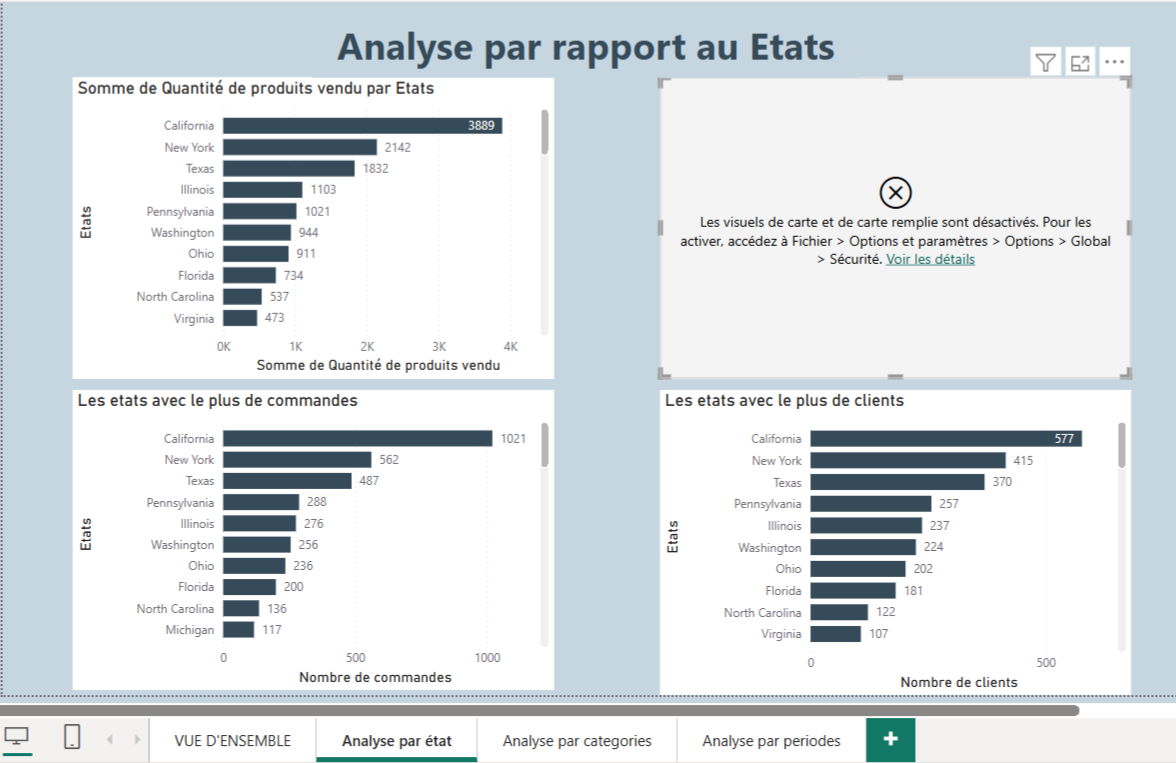

Layout of this report page (visuals, bound fields, positions):
{"tool":"powerbi","page":{"name":"Analyse par  état","canvas":[1280,720],"ordinal":1},"visuals":[{"type":"clusteredBarChart","title":"Les etats avec le plus de clients","fields":{"Category":["SuperStore.Etats"],"Y":["SuperStore.Nombre de clients"]},"box":[657.5,415,471.2,305],"z":0},{"type":"clusteredBarChart","title":"Les etats avec le plus de commandes","fields":{"Category":["SuperStore.Etats"],"Y":["SuperStore.Nombre de commandes"]},"box":[70,415,481.2,300],"z":1000},{"type":"clusteredBarChart","fields":{"Category":["SuperStore.Etats"],"Y":["Sum(SuperStore.Quantité de produits vendu)"]},"box":[70,102.5,481.2,301.2],"z":2000},{"type":"filledMap","title":"Cartographie des commandes par Etat","fields":{"Category":["SuperStore.Pays"],"Series":["SuperStore.Etats"]},"box":[657.5,102.5,471.2,301.2],"z":3000},{"type":"textbox","box":[366.2,0,546.2,63.8],"z":4000}]}

Visuals, with their boxes on the page's 1280x720 design canvas (x1, y1, x2, y2). These are canvas units, not pixel positions in the 1176x763 screenshot, which may show the page scaled, cropped or inside an application window:
"Les etats avec le plus de clients" clusteredBarChart: bbox(658, 415, 1129, 720)
"Les etats avec le plus de commandes" clusteredBarChart: bbox(70, 415, 551, 715)
clusteredBarChart - SuperStore.Etats x Sum(SuperStore.Quantité de produits vendu): bbox(70, 102, 551, 404)
"Cartographie des commandes par Etat" filledMap: bbox(658, 102, 1129, 404)
textbox: bbox(366, 0, 912, 64)
